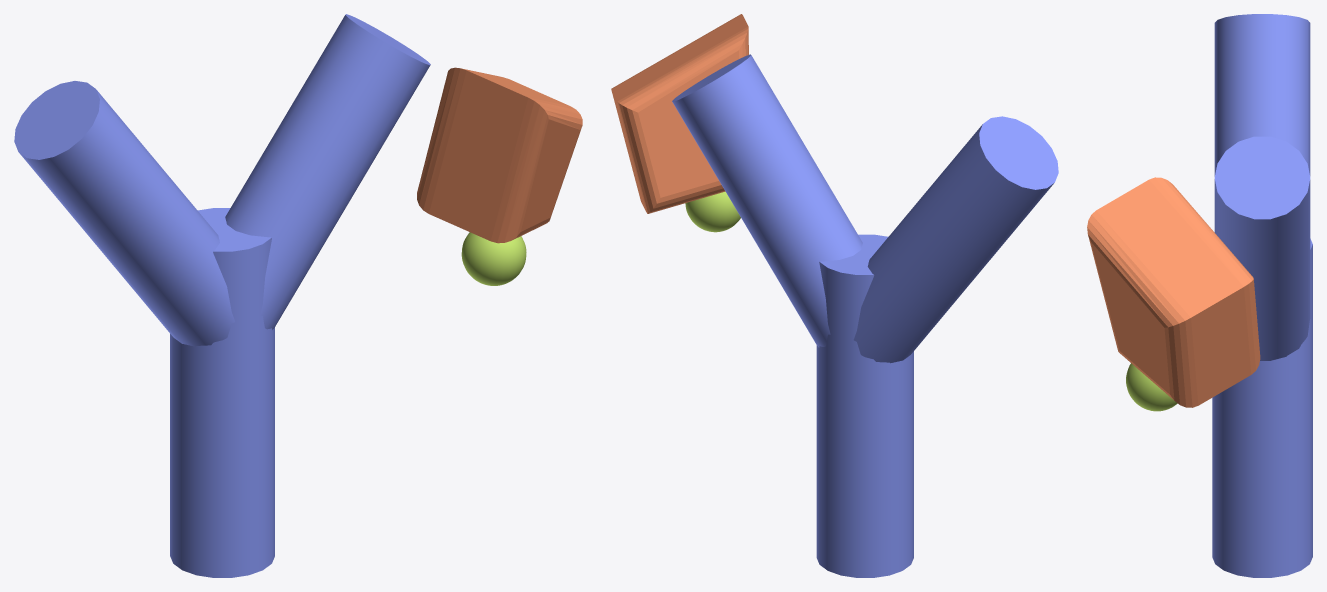
File: director.glb
3 views of the same model, side by side, from view 1: azimuth 30°, elevation 25°; view 2: azimuth 150°, elevation 25°; view 3: azimuth 270°, elevation 25° (orthographic). The views are drawn at different scales.
Size of the model in its own units: 1.29 by 1.21 by 0.5127.
